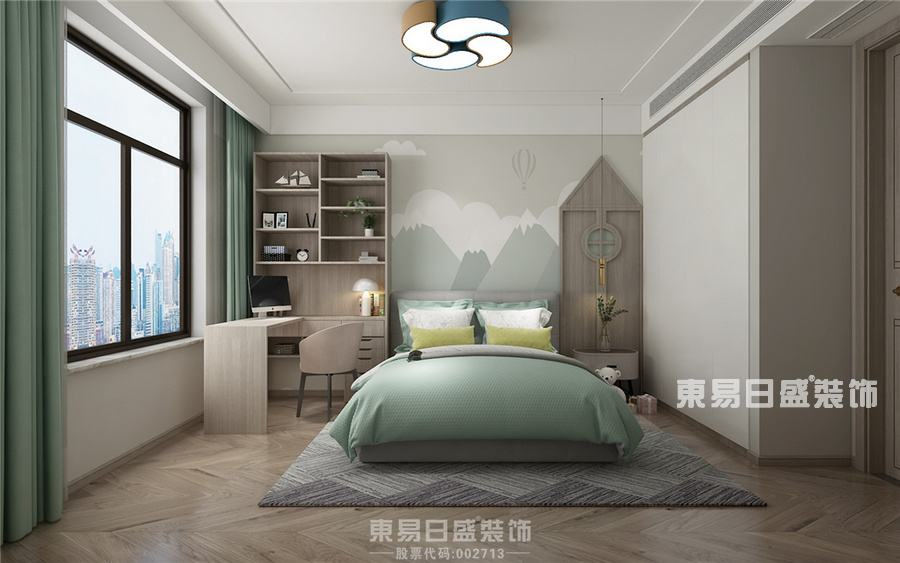床: (338, 348, 647, 473)
枕头: (404, 301, 555, 354)
灯: (398, 9, 521, 75), (348, 277, 387, 321)
